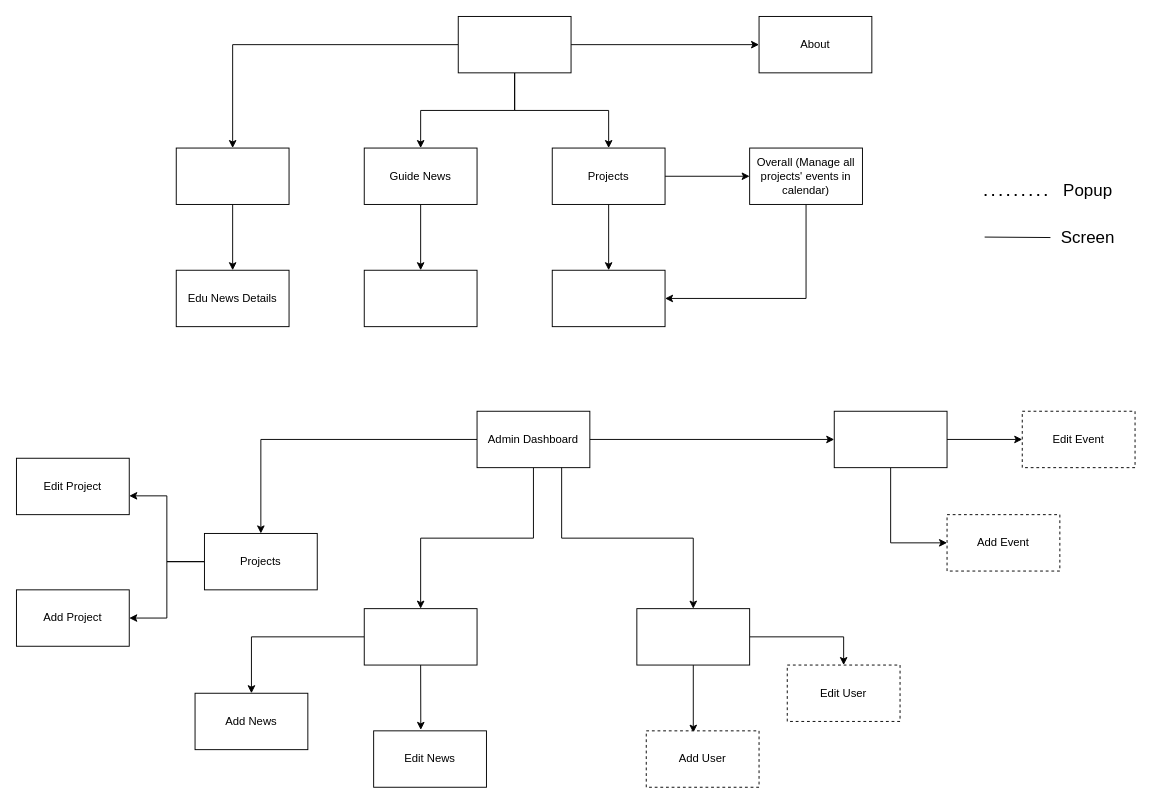
This 1152x804 diagram has some shape labels left out. Here are the shapes that lost their labels. From the top down, the centre of each, then its label:
[514,44]: Homepage
[232,175]: Edu News
[420,298]: Guide News Details
[608,298]: Project Details
[890,439]: Events
[420,636]: News
[693,636]: Users
